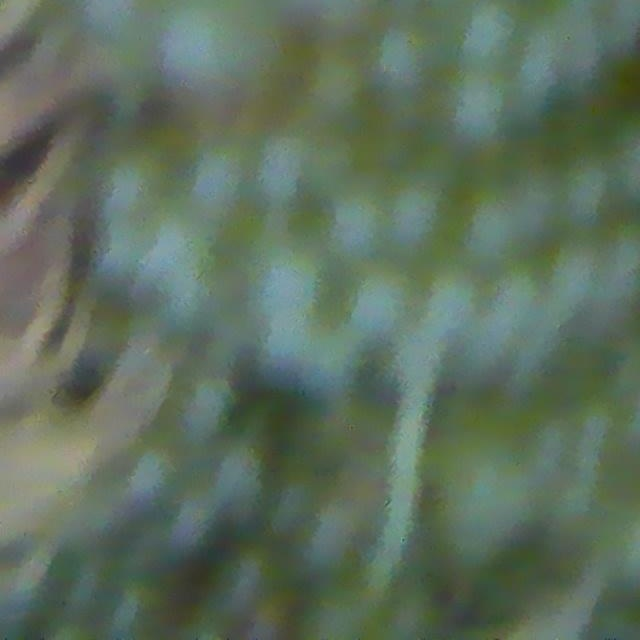SeaGrape: (154, 0, 254, 91), (243, 235, 332, 327), (437, 67, 513, 149), (417, 262, 489, 338), (341, 267, 412, 343), (460, 179, 522, 264), (315, 185, 380, 263), (166, 369, 236, 441), (371, 22, 439, 94), (455, 0, 524, 66), (303, 50, 367, 121), (180, 149, 250, 213), (482, 267, 545, 337), (258, 130, 313, 203), (385, 183, 446, 248), (97, 163, 164, 222), (556, 156, 609, 228), (510, 179, 564, 249), (542, 247, 600, 302), (303, 339, 355, 391), (264, 315, 319, 363), (604, 229, 640, 293)
